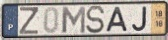0: (42, 6, 61, 35)
A: (105, 6, 130, 33)
J: (131, 6, 148, 33)
M: (61, 5, 87, 34)
S: (85, 5, 106, 35)
Z: (19, 6, 40, 36)
